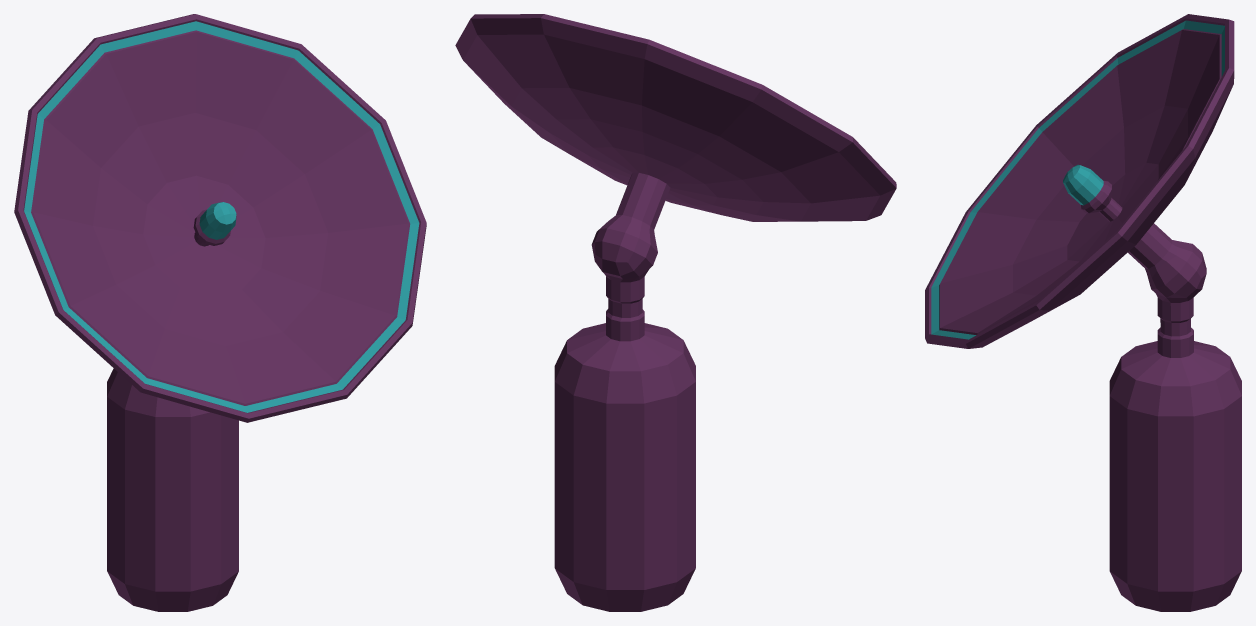
The model's file is SatelliteDish.fbx.
The picture shows the model from 3 angles, left to right: view 1: azimuth 30°, elevation 25°; view 2: azimuth 150°, elevation 25°; view 3: azimuth 270°, elevation 25°; orthographic projection. The views are drawn at different scales.
Parts seen in each view (by area): view 1: Satellite; view 2: Satellite; view 3: Satellite.
Part boxes in pixels (x1,y1,x2,y2): Satellite: (14, 14, 426, 611); Satellite: (455, 14, 896, 611); Satellite: (925, 14, 1241, 611).
Size of the model in its own units: 111 by 158 by 81.46.
